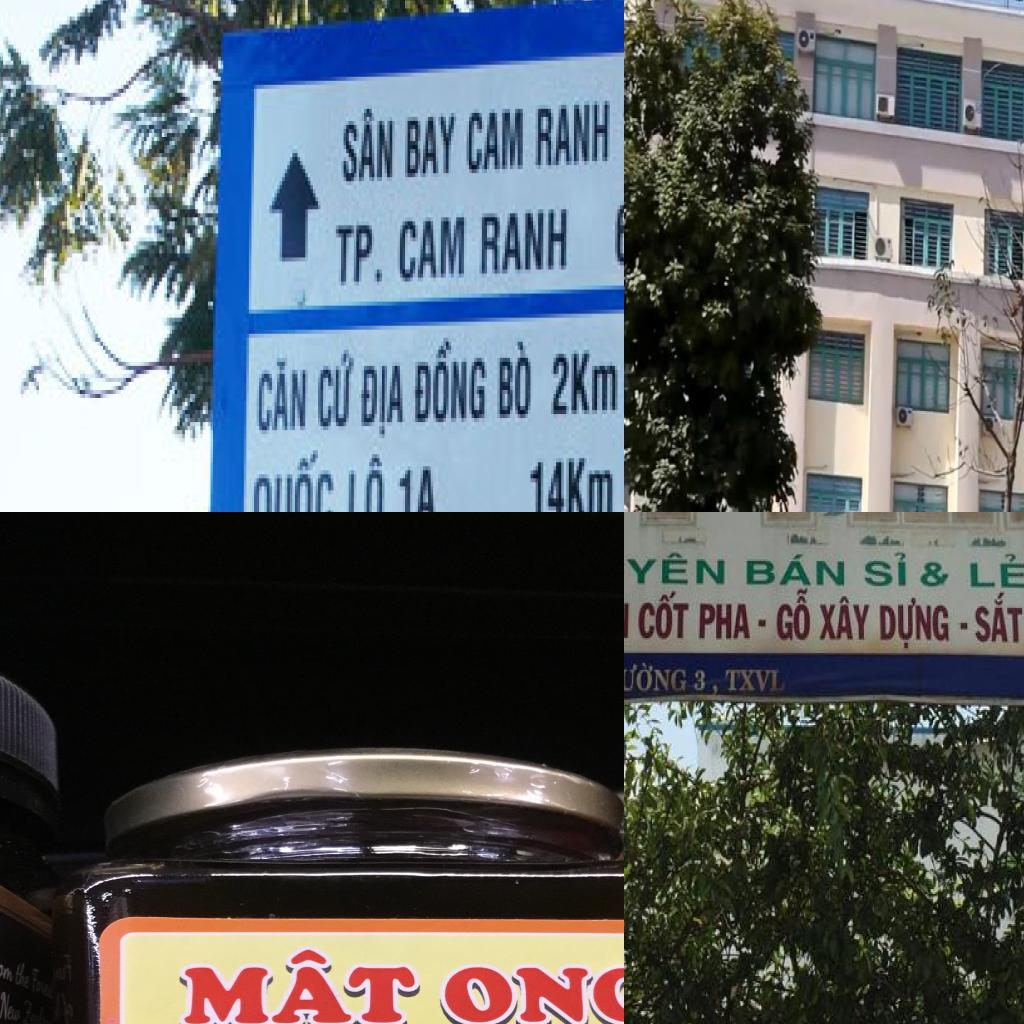text: (511, 673, 624, 857), (540, 869, 624, 1024), (412, 334, 490, 430), (477, 205, 571, 282), (533, 97, 612, 173), (248, 446, 338, 512), (392, 213, 472, 286), (338, 105, 400, 189), (464, 101, 528, 181), (400, 105, 461, 185), (256, 354, 310, 438), (624, 546, 728, 588), (52, 910, 103, 995), (878, 596, 953, 652), (359, 358, 408, 442), (490, 338, 536, 426), (742, 554, 849, 591), (313, 346, 356, 430), (572, 346, 622, 418), (816, 593, 874, 650), (563, 454, 617, 512), (972, 589, 1024, 649), (336, 213, 374, 294), (636, 590, 691, 642), (343, 454, 392, 512), (696, 595, 754, 643), (963, 549, 1024, 592), (624, 656, 689, 696), (859, 544, 912, 593), (718, 668, 789, 700), (397, 458, 438, 512), (775, 590, 815, 644), (527, 458, 566, 512), (548, 350, 572, 422), (56, 689, 92, 727), (921, 553, 953, 591), (542, 519, 590, 542), (30, 695, 60, 727), (64, 1005, 114, 1024), (103, 910, 125, 953), (48, 727, 78, 758), (597, 521, 624, 554), (23, 650, 53, 676), (614, 197, 624, 269), (110, 978, 126, 1018), (692, 662, 709, 696), (499, 522, 527, 540), (372, 266, 390, 290), (370, 520, 397, 536), (326, 520, 355, 534), (26, 678, 51, 694), (415, 522, 439, 538), (458, 522, 484, 536), (108, 956, 124, 976), (112, 753, 123, 760)
